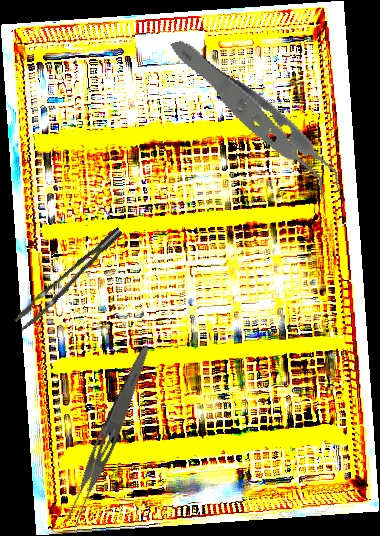Dressing Forceps: (60, 340, 155, 531)
Tissue Forceps: (167, 7, 348, 240), (5, 227, 135, 331)
